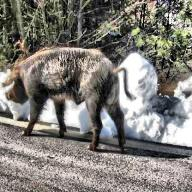boar: (3, 25, 145, 145)
